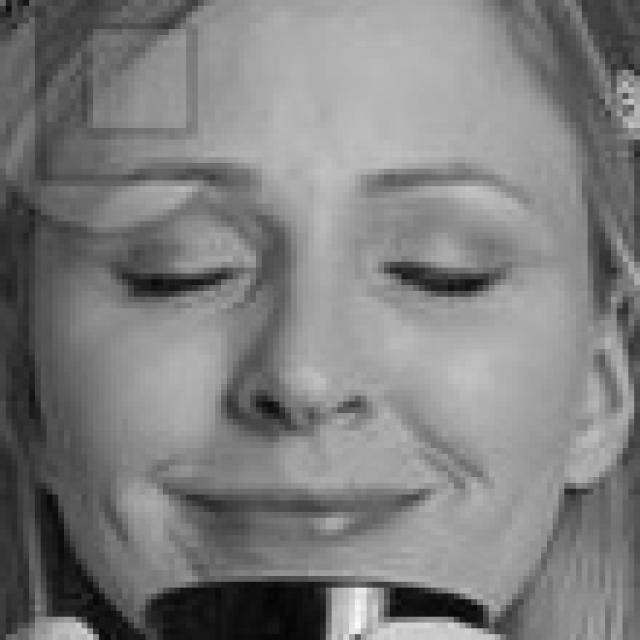real: (33, 0, 592, 633), (105, 220, 516, 318)
